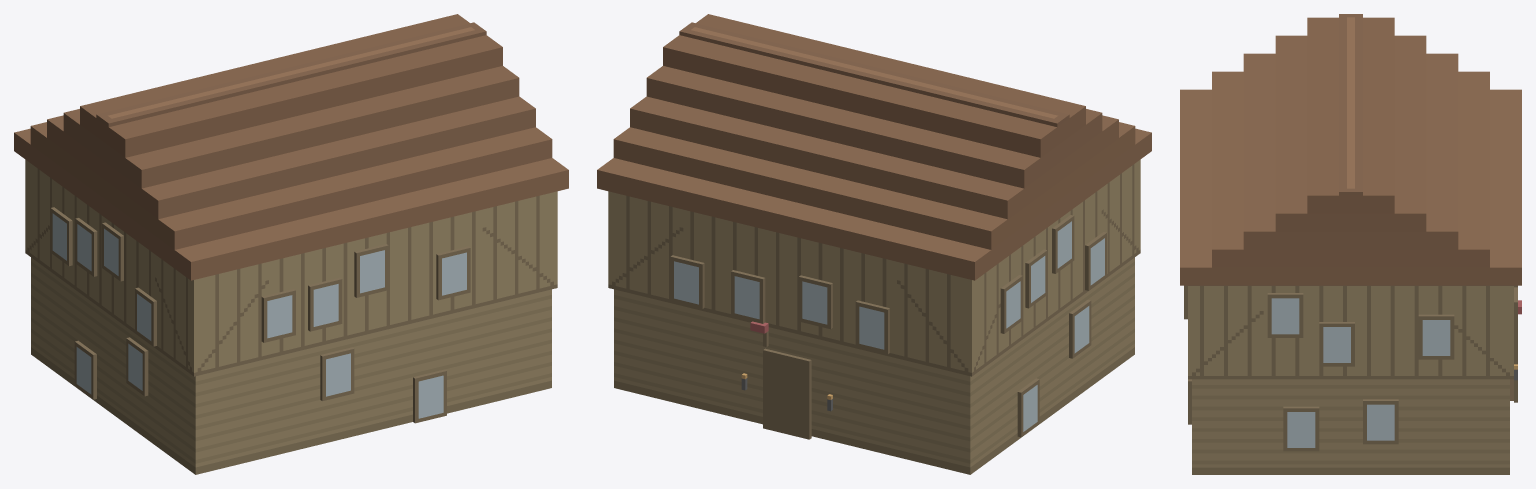
Rendered from taberna_04.glb.
3 views of the same model, side by side, from view 1: azimuth 30°, elevation 25°; view 2: azimuth 150°, elevation 25°; view 3: azimuth 270°, elevation 25° (orthographic). The views are drawn at different scales.
Parts seen in each view (by area): view 1: taberna_04; view 2: taberna_04; view 3: taberna_04.
Boxes of the visible parts, x1,y1,x2,y2 form: taberna_04: [14, 14, 568, 474]; taberna_04: [597, 14, 1151, 474]; taberna_04: [1180, 14, 1521, 474].
Size of the model in its own units: 10.6 by 8 by 8.6.
